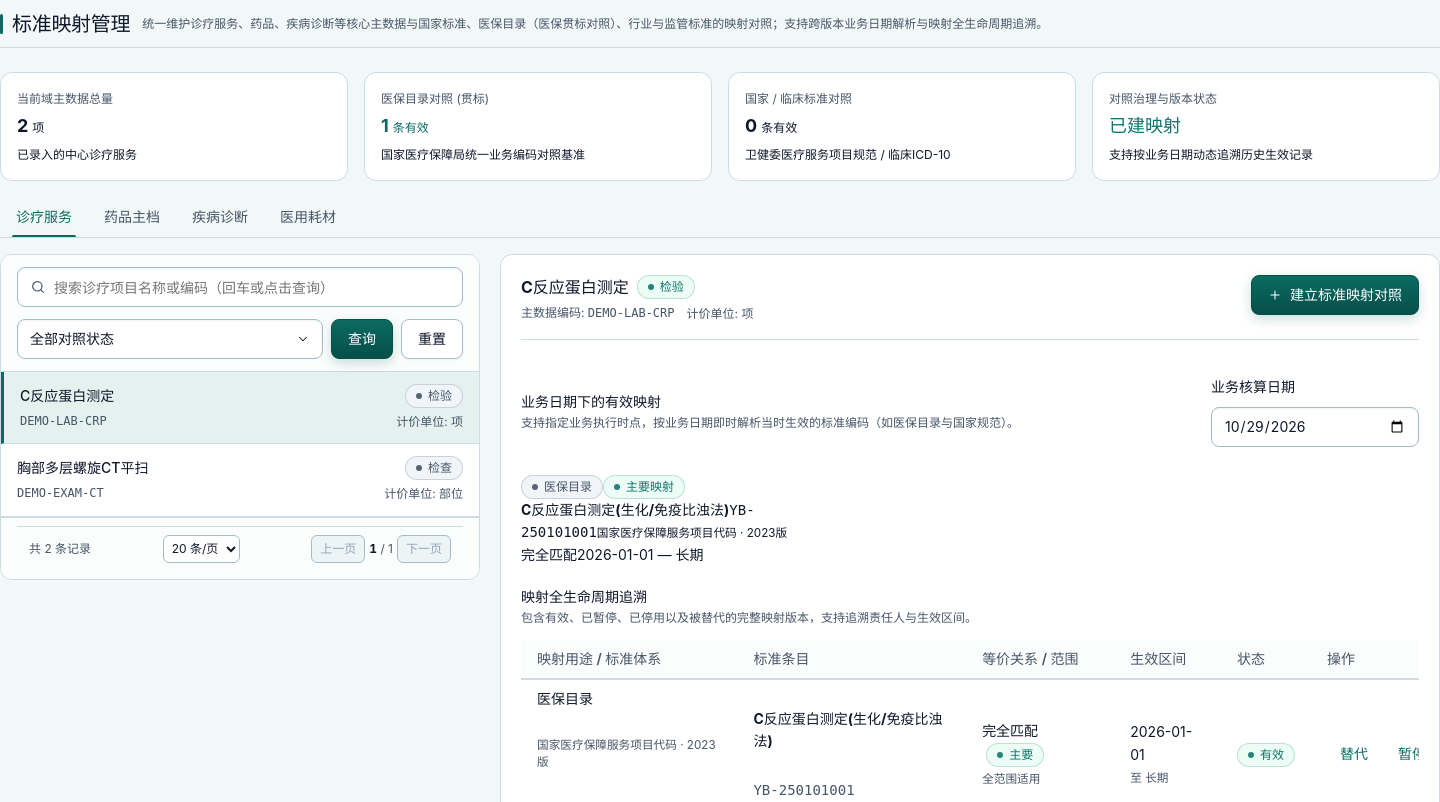
Test: StandardMappingWorkspace › opens standard mapping dialog on button click
Click the button "建立标准映射对照".
click(1335, 295)  # box top-left (1251, 275), bottom-right (1419, 315)
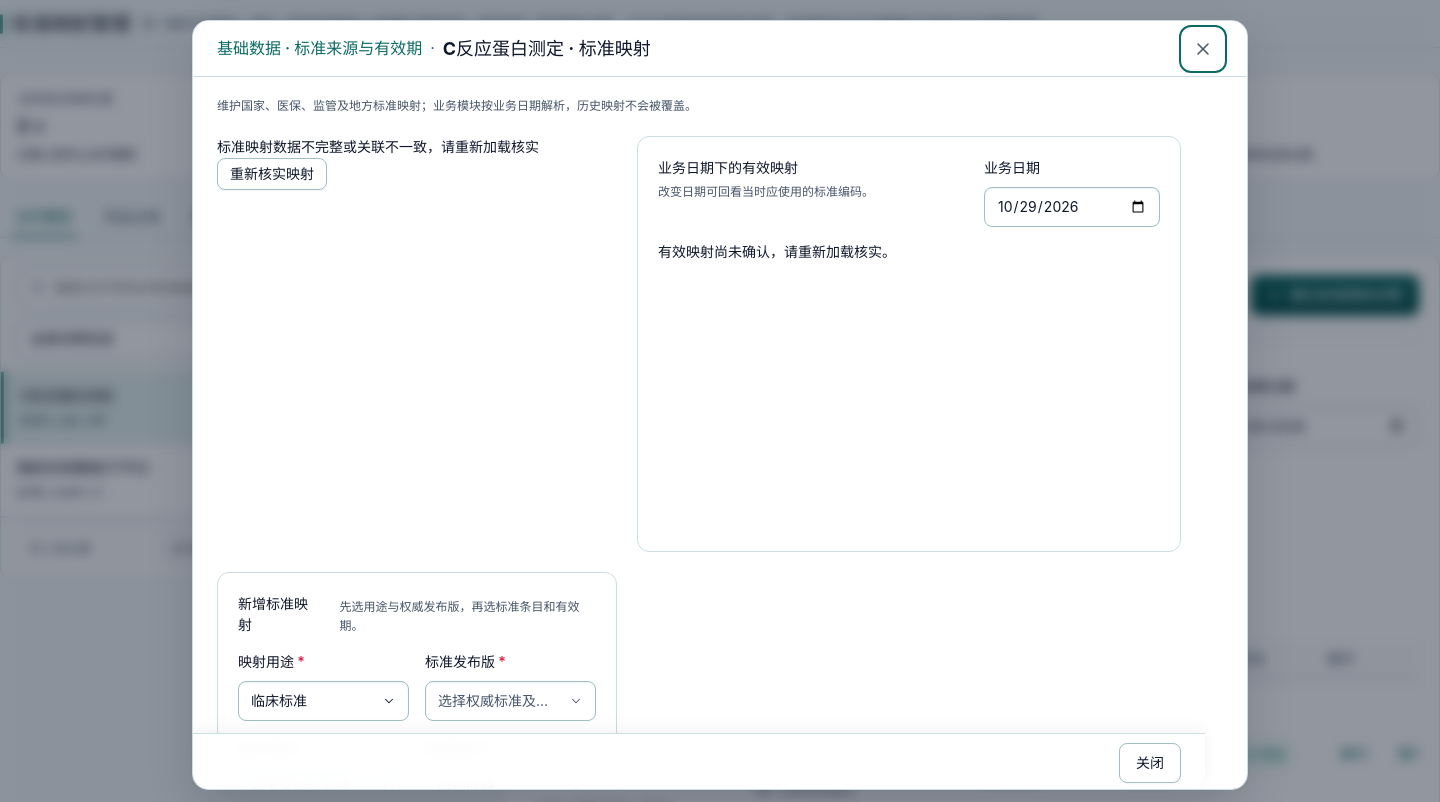
Now the heading "C反应蛋白测定 · 标准映射" is shown, box top-left (443, 35), bottom-right (651, 62)
